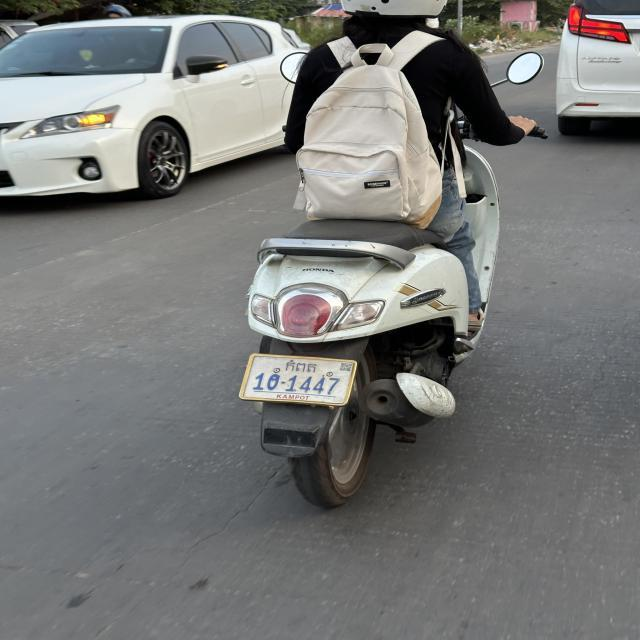Kampot: (285, 359, 318, 375)
